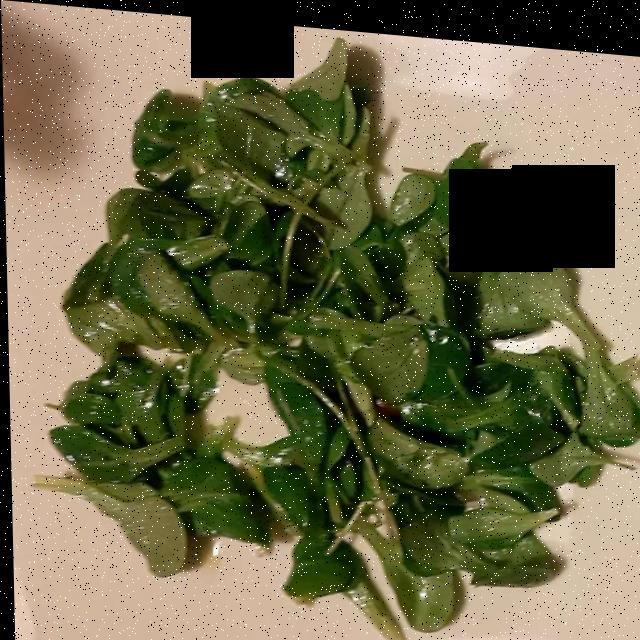salad-lambs-ear: (50, 54, 631, 630)
